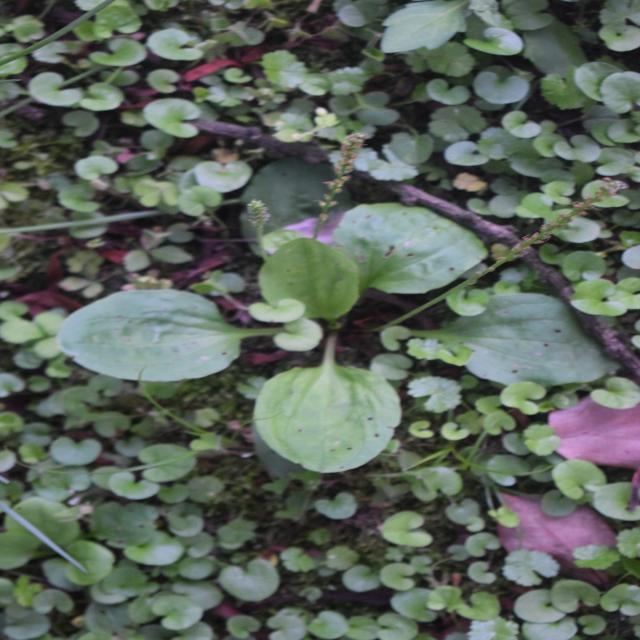plantain: (180, 59, 447, 501)
